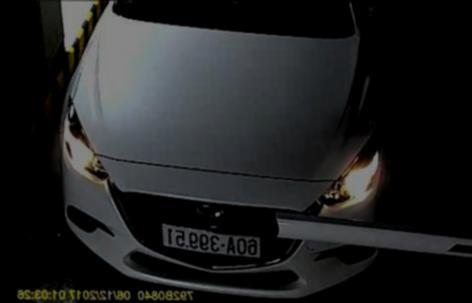License_Plate: (160, 223, 263, 258)
